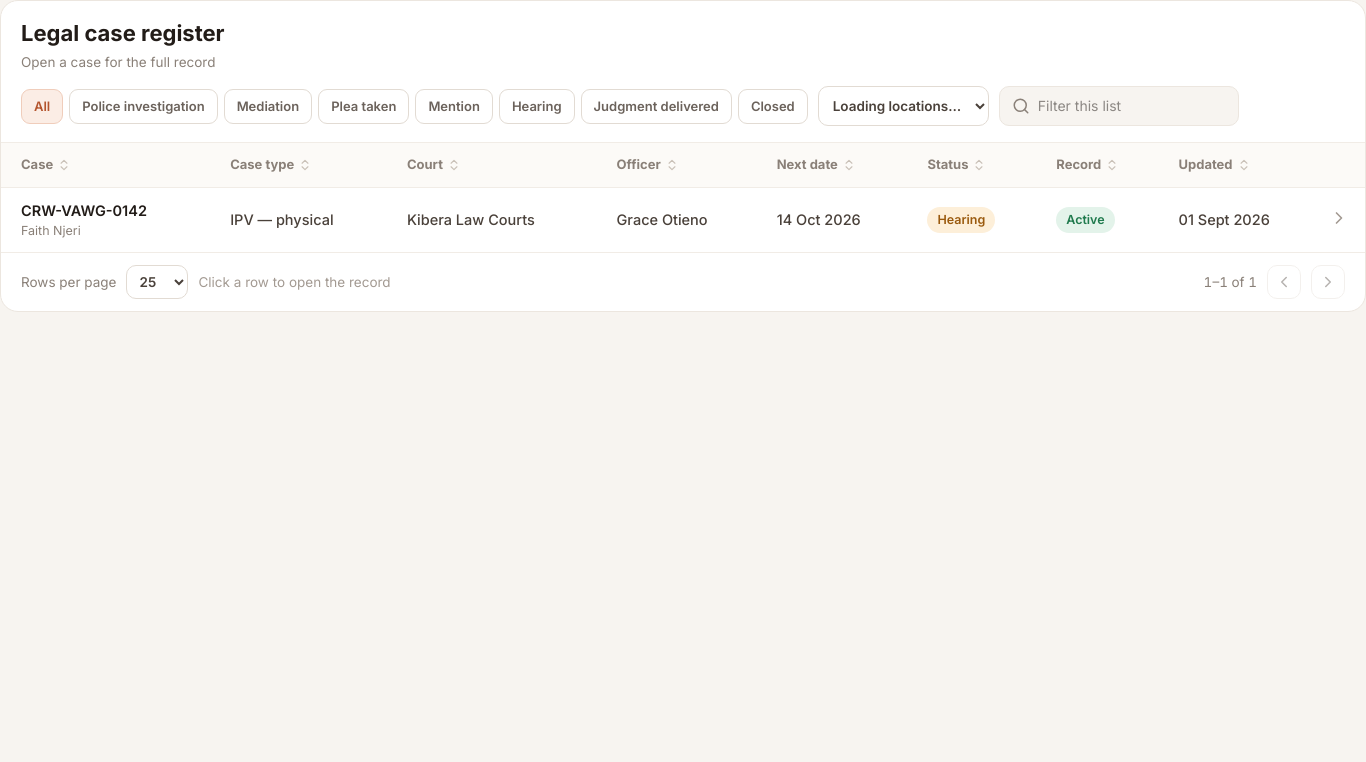
Test case: VAWG case register › disables gated controls without permission
Click the button named "Open CRW-VAWG-0142": (1339, 218) [1327,206,1351,230]
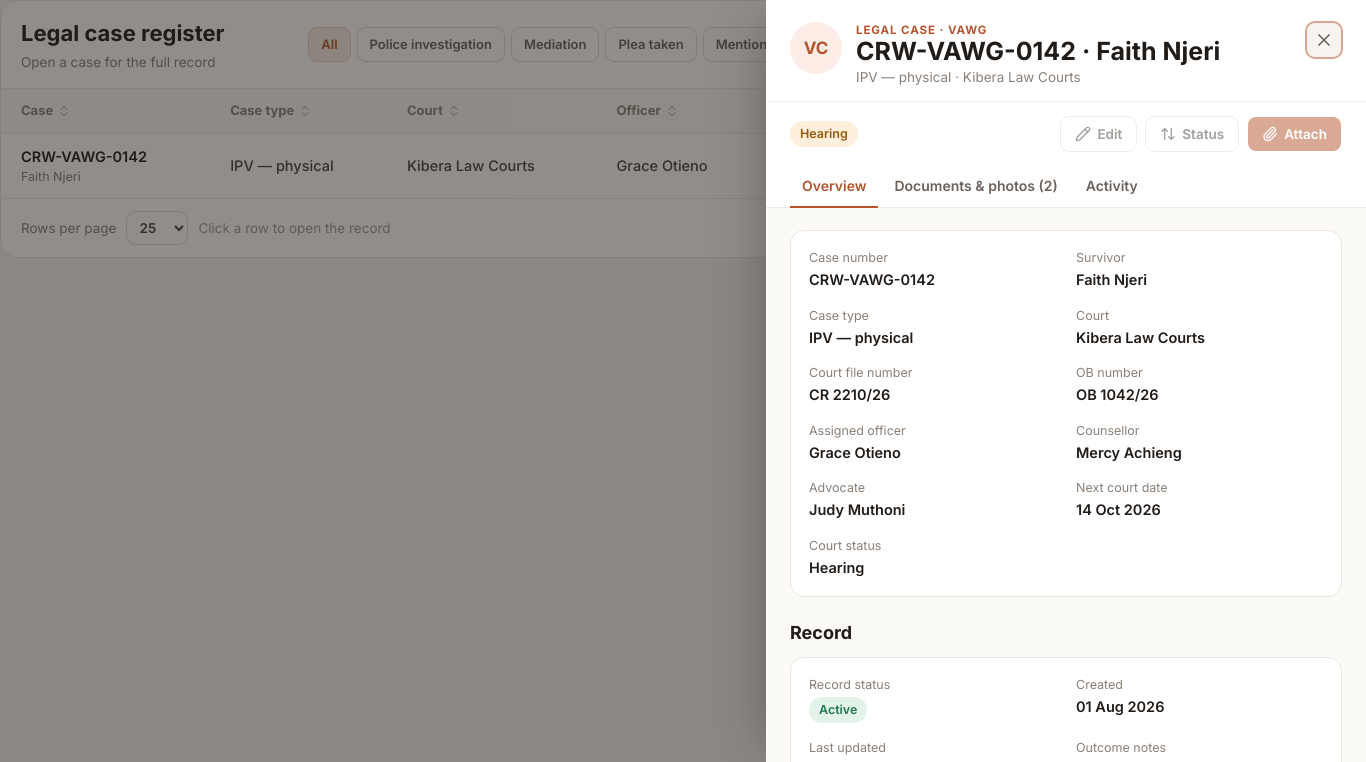
Expected: the tab "Documents & photos (2)" is shown
Expected: the button "Edit" is disabled, [1060,116,1137,152]
Expected: the button "Status" is disabled, [1145,116,1239,152]
Click the tab "Documents & photos (2)": (976, 187) [882,166,1070,208]
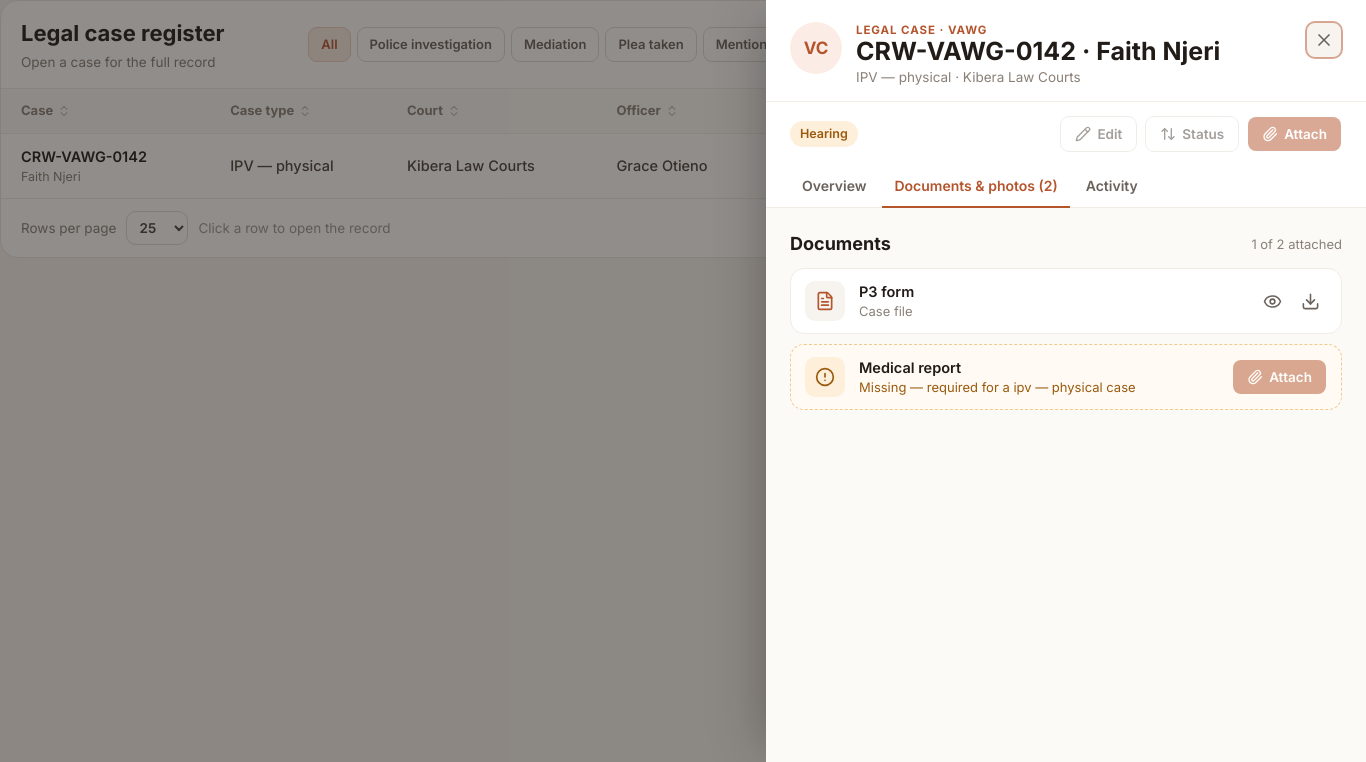
Expected: the button named "View P3 form" is disabled, [1255,284,1289,318]
Expected: the button named "Download P3 form" is disabled, [1293,284,1327,318]
Expected: the button with aria-label "Attach Medical report" is disabled, [1232,359,1327,395]
